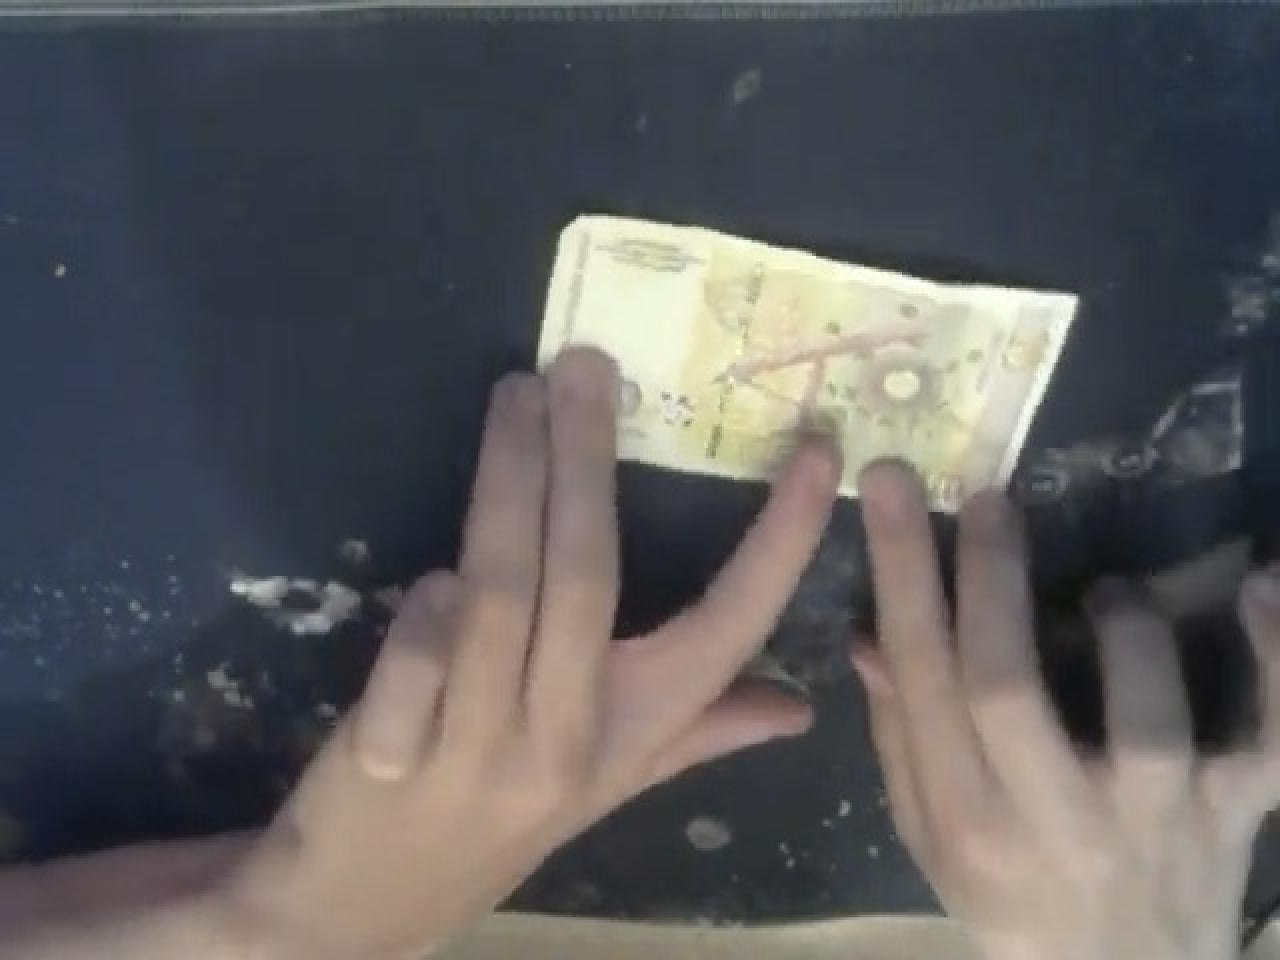10leva: (987, 319, 1067, 385)
